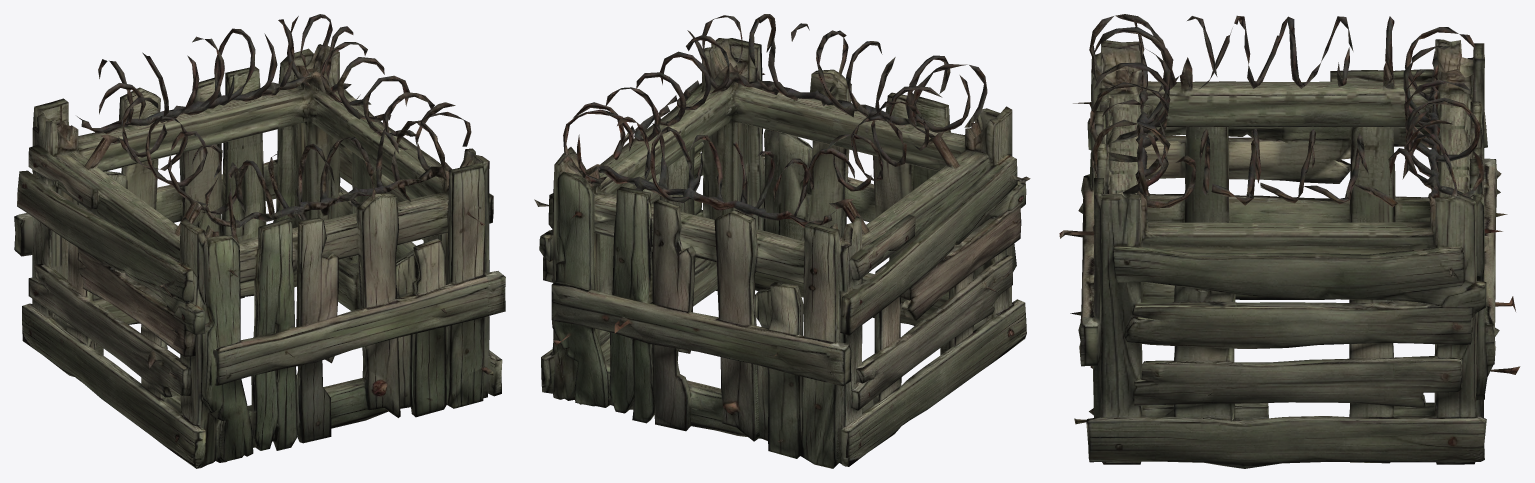
The model's file is building_barricade.glb.
3 renders of one model, left to right at view 1: azimuth 30°, elevation 25°; view 2: azimuth 150°, elevation 25°; view 3: azimuth 270°, elevation 25°, orthographic. The views are drawn at different scales.
Parts seen in each view (by area): view 1: Mesh_0; view 2: Mesh_0; view 3: Mesh_0.
Part boxes in pixels (bbox=[...]): Mesh_0: bbox=[14, 14, 505, 468]; Mesh_0: bbox=[534, 14, 1030, 468]; Mesh_0: bbox=[1059, 14, 1520, 468].
Size of the model in its own units: 2.31 by 1.8 by 2.36.
1 material, 1 textured.
